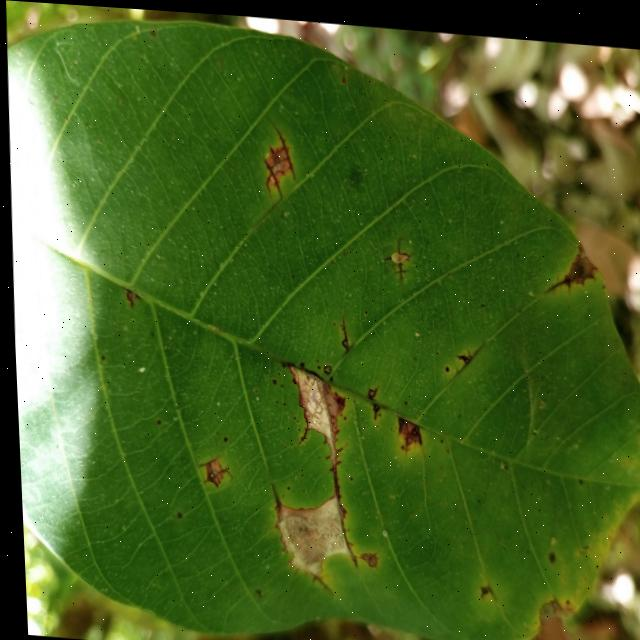Colletotrichum: (172, 508, 178, 514), (269, 375, 273, 381), (153, 416, 157, 422), (219, 433, 223, 438), (441, 360, 445, 365), (282, 481, 285, 484), (272, 396, 274, 399), (279, 398, 282, 400), (294, 423, 296, 426), (289, 412, 291, 414)
Corynespora: (316, 433, 355, 562), (259, 118, 294, 195), (191, 448, 230, 485), (380, 231, 410, 275), (278, 355, 321, 376), (543, 264, 571, 286), (306, 567, 331, 590), (336, 312, 350, 353), (293, 420, 307, 440), (267, 479, 277, 507), (453, 342, 469, 358), (363, 378, 375, 395), (368, 396, 376, 414)
Leaf-Blight: (268, 484, 346, 569), (285, 361, 344, 459), (564, 235, 595, 275)
